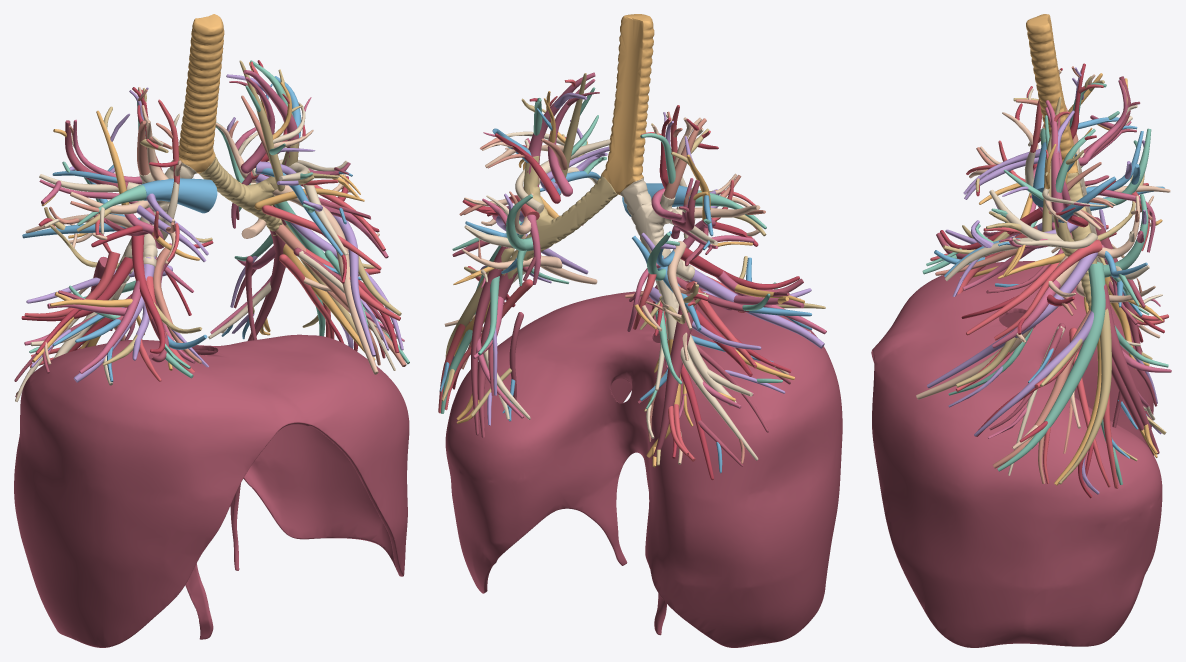
Rendered from bodyparts3d-respiratory.glb.
3 views of the same model, side by side, from view 1: azimuth 30°, elevation 25°; view 2: azimuth 150°, elevation 25°; view 3: azimuth 270°, elevation 25° (orthographic). The views are drawn at different scales.
Parts seen in each view (by area): view 1: Diaphragm · FJ3131, Trachea · FJ2541, Left main bronchus · FJ2450, Right upper lobar artery · FJ2973, Right main bronchus proper · FJ2539, Inferior lingular bronchial tree · FJ2441, Inferior lingular artery · FJ2896, Superior branch of medial segmental artery · FJ2990, Left posterior basal segmental bronchial tree · FJ2446, Left medial basal segmental bronchial tree · FJ2442, Left lateral basal segmental bronchial tree · FJ2445, Lateral branch of right anterior basal segmental artery · FJ (+21 smaller); view 2: Diaphragm · FJ3131, Trachea · FJ2541, Left main bronchus · FJ2450, Right main bronchus proper · FJ2539, Mediobasal branch of right posterior basal segmental artery , Left posterior basal segmental artery · FJ2881, Lateral segmental bronchial tree · FJ2449, Left posterior basal segmental bronchial tree · FJ2446, Superior branch of medial segmental artery · FJ2990, Lateral branch of right lateral basal segmental artery · FJ3, Left apical segmental artery · FJ2915, Right posterior basal segmental vein · FJ3041 (+12 smaller); view 3: Diaphragm · FJ3131, Trachea · FJ2541, Left anterior basal segmental artery · FJ2883, Left lateral basal segmental artery · FJ2921, Inferior lingular artery · FJ2896, Left posterior basal segmental artery · FJ2881, Left main bronchus · FJ2450, Left medial basal segmental artery · FJ2884, Superior lingular artery · FJ2898, Inferior lingular bronchial tree · FJ2441, Left medial basal segmental bronchial tree · FJ2442, Left apical segmental bronchial tree · FJ2444 (+27 smaller).
Part boxes in pixels (bbox=[...]): Diaphragm · FJ3131: bbox=[14, 334, 409, 647]; Trachea · FJ2541: bbox=[178, 14, 224, 173]; Left main bronchus · FJ2450: bbox=[198, 143, 299, 235]; Right upper lobar artery · FJ2973: bbox=[141, 178, 217, 213]; Right main bronchus proper · FJ2539: bbox=[113, 160, 197, 299]; Inferior lingular bronchial tree · FJ2441: bbox=[272, 185, 378, 374]; Inferior lingular artery · FJ2896: bbox=[255, 174, 375, 356]; Superior branch of medial segmental artery · FJ2990: bbox=[131, 235, 165, 353]; Left posterior basal segmental bronchial tree · FJ2446: bbox=[249, 230, 285, 340]; Left medial basal segmental bronchial tree · FJ2442: bbox=[275, 223, 406, 366]; Left lateral basal segmental bronchial tree · FJ2445: bbox=[283, 244, 375, 360]; Lateral branch of right anterior basal segmental artery · FJ: bbox=[24, 251, 120, 318]; Diaphragm · FJ3131: bbox=[445, 291, 842, 647]; Trachea · FJ2541: bbox=[601, 14, 654, 194]; Left main bronchus · FJ2450: bbox=[501, 156, 617, 279]; Right main bronchus proper · FJ2539: bbox=[620, 177, 694, 339]; Mediobasal branch of right posterior basal segmental artery : bbox=[652, 301, 696, 459]; Left posterior basal segmental artery · FJ2881: bbox=[471, 246, 509, 435]; Lateral segmental bronchial tree · FJ2449: bbox=[688, 266, 824, 348]; Left posterior basal segmental bronchial tree · FJ2446: bbox=[477, 272, 517, 437]; Superior branch of medial segmental artery · FJ2990: bbox=[680, 247, 799, 289]; Lateral branch of right lateral basal segmental artery · FJ3: bbox=[680, 347, 758, 460]; Left apical segmental artery · FJ2915: bbox=[547, 79, 595, 196]; Right posterior basal segmental vein · FJ3041: bbox=[663, 311, 713, 480]; Diaphragm · FJ3131: bbox=[871, 261, 1162, 647]; Trachea · FJ2541: bbox=[1026, 14, 1078, 174]; Left anterior basal segmental artery · FJ2883: bbox=[997, 263, 1105, 471]; Left lateral basal segmental artery · FJ2921: bbox=[1058, 290, 1111, 484]; Inferior lingular artery · FJ2896: bbox=[927, 252, 1097, 388]; Left posterior basal segmental artery · FJ2881: bbox=[1104, 284, 1159, 454]; Left main bronchus · FJ2450: bbox=[1053, 172, 1096, 310]; Left medial basal segmental artery · FJ2884: bbox=[974, 311, 1093, 436]; Superior lingular artery · FJ2898: bbox=[994, 239, 1102, 340]; Inferior lingular bronchial tree · FJ2441: bbox=[916, 255, 1079, 399]; Left medial basal segmental bronchial tree · FJ2442: bbox=[993, 309, 1090, 468]; Left apical segmental bronchial tree · FJ2444: bbox=[1045, 100, 1067, 228].
Bounding box in the file's own units: 0.2478 × 0.4096 × 0.185.
